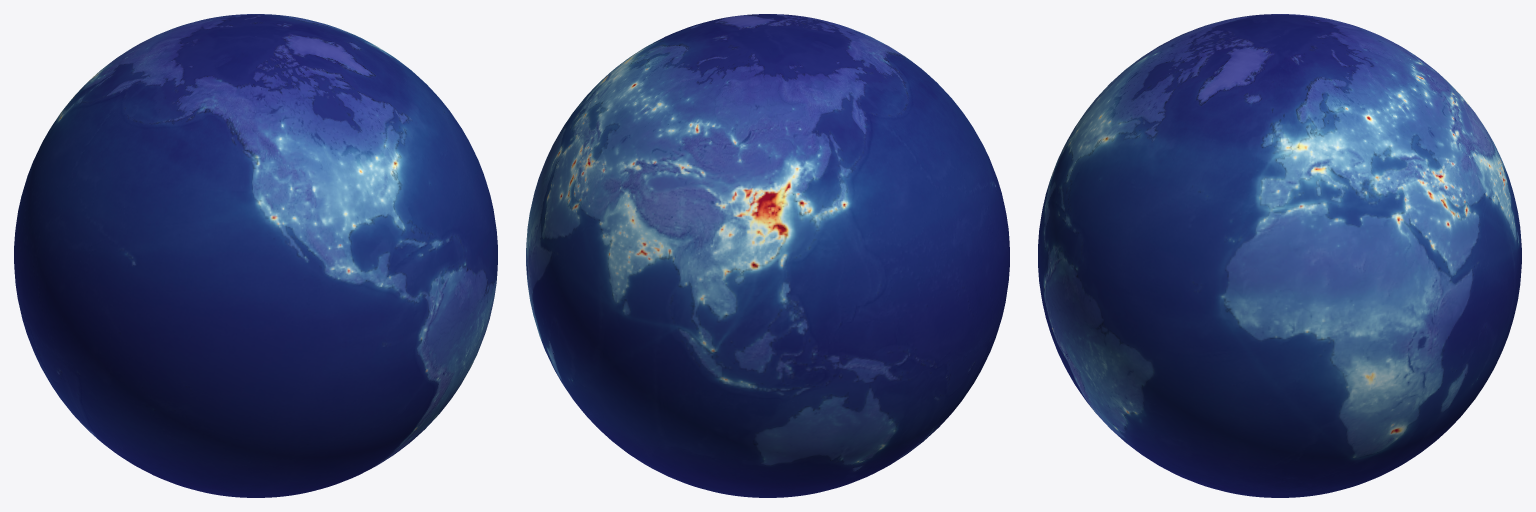
The model's file is no2globe.glb.
3 views of the same model, side by side, from view 1: azimuth 30°, elevation 25°; view 2: azimuth 150°, elevation 25°; view 3: azimuth 270°, elevation 25° (orthographic).
Parts seen in each view (by area): view 1: Sphere; view 2: Sphere; view 3: Sphere.
Boxes of the visible parts, <box> form: Sphere: <box>14,14,497,497</box>; Sphere: <box>526,14,1009,497</box>; Sphere: <box>1038,14,1521,497</box>.
Bounding box in the file's own units: 4.88 × 4.88 × 4.88.
Materials: 1 (1 with a texture image).
